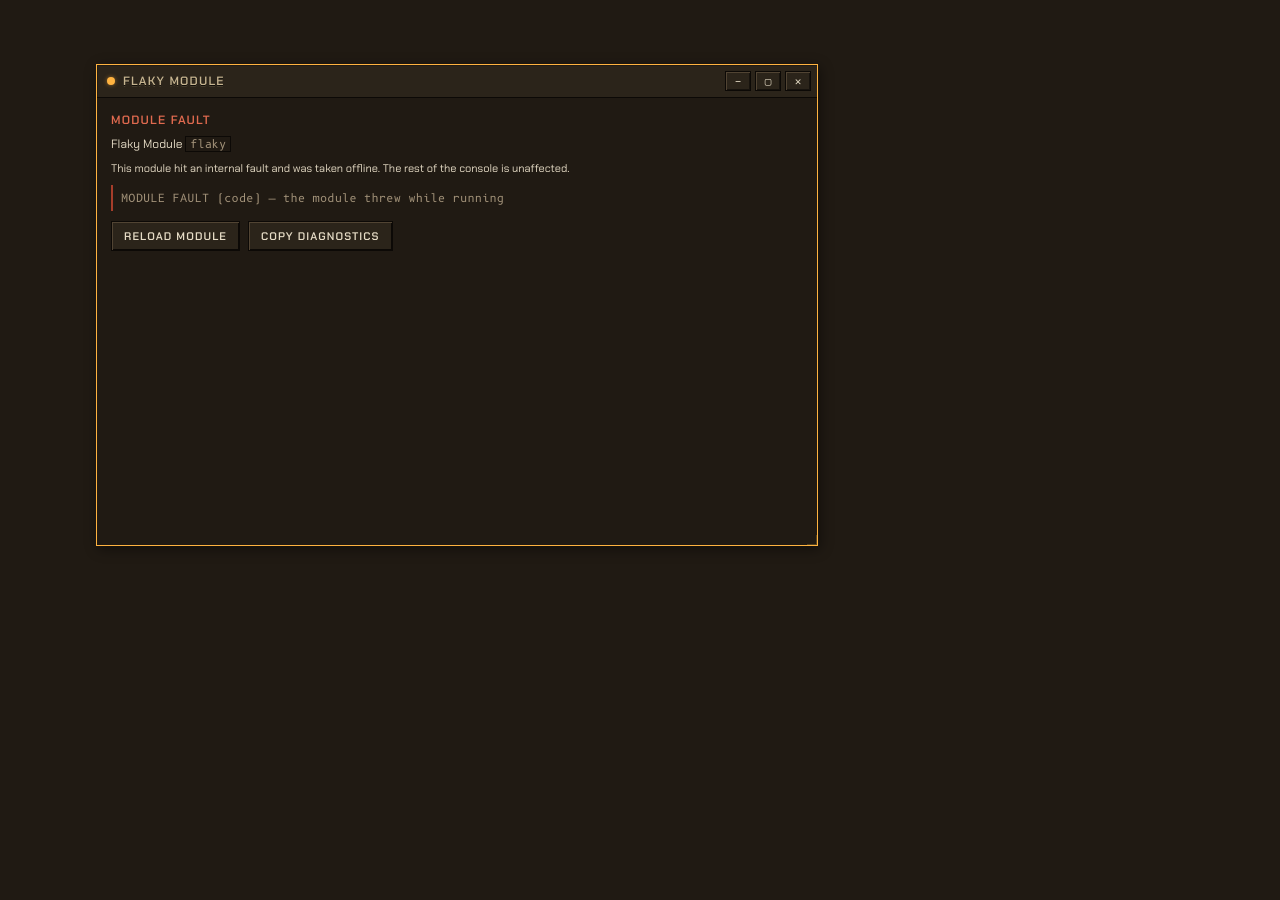
Test: AppBoundary · a thrown app error isolates to its window › Reload module remounts the app fresh (a real remount, not a re-render)
Expected: the message is shown, [97,98,817,545]
Click the button "Reload module" at (176, 236), box [111,220,240,250]
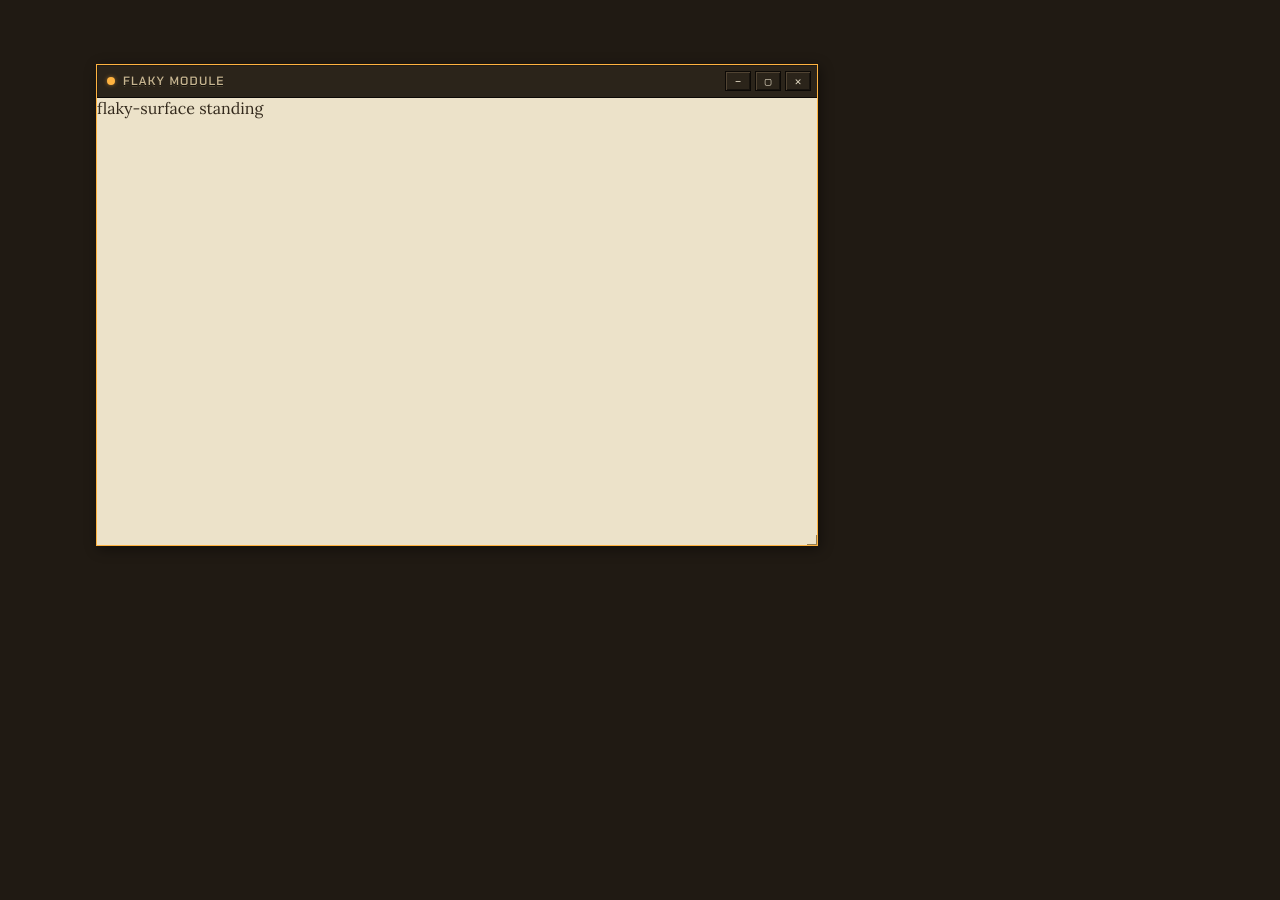
Expected: the text "flaky-surface standing" is shown, [97,98,263,118]
Expected: the message "MODULE FAULT Flaky Module flaky This module hit an internal fault and was taken" is gone
